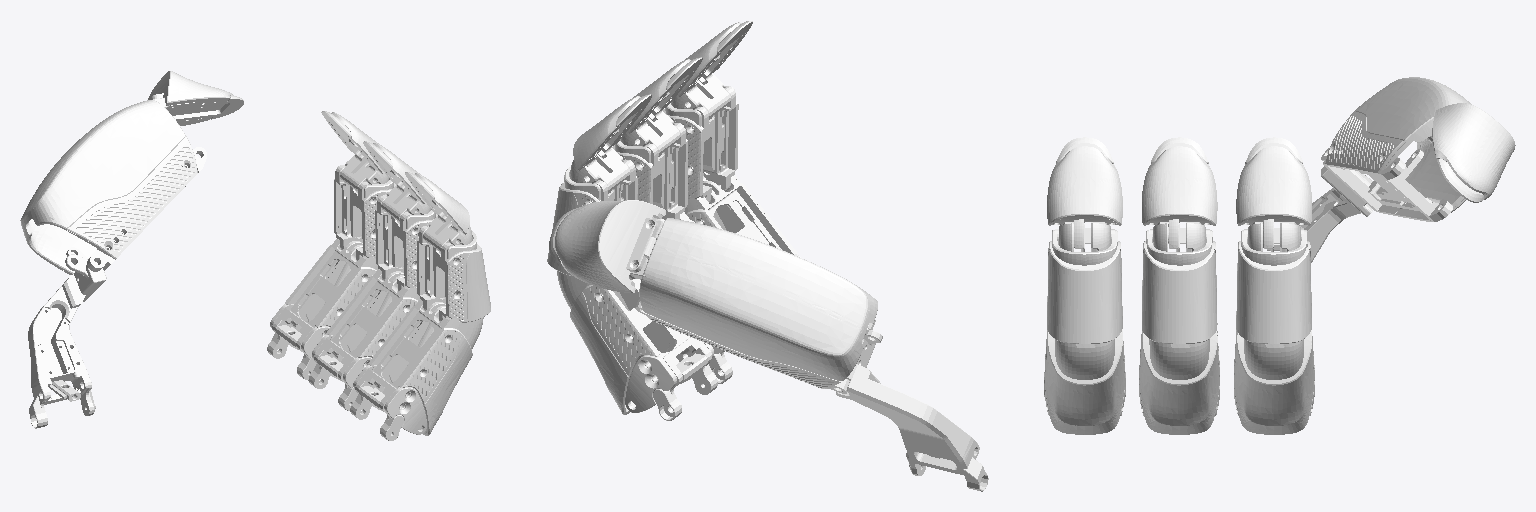
--- Facts derived from the render (not from the file) ---
Views: 3 orthographic renders of the robot side by side, from view 1: azimuth 30°, elevation 25°; view 2: azimuth 150°, elevation 25°; view 3: azimuth 270°, elevation 25°.
Robot: DH13_left_palm_URDF — 28 links, 27 joints (16 revolute, 11 fixed); root link left_palm; default pose: joints at zero except 12 at the middle of their limits (left_index_joint_1 = 0.795, left_index_joint_2 = 0.795, left_index_joint_3 = 0.795, left_middle_joint_1 = 0.795, left_middle_joint_2 = 0.795, left_middle_joint_3 = 0.795, +6 more).
Visible links, largest first — view 1: left_thumb_link_2, left_ring_link_1, left_thumb_link_1, left_index_link_1, left_middle_link_1, left_ring_link_2, left_index_link_2, left_middle_link_2, left_thumb_link_3, left_ring_link_3, left_middle_link_3, left_index_link_3; view 2: left_thumb_link_2, left_index_link_1, left_thumb_link_3, left_thumb_link_1, left_ring_link_2, left_middle_link_2, left_ring_link_1, left_index_link_3, left_middle_link_3, left_ring_link_3, left_index_link_2, left_middle_link_1; view 3: left_thumb_link_2, left_ring_link_2, left_index_link_2, left_middle_link_2, left_ring_link_1, left_middle_link_1, left_index_link_1, left_index_link_3, left_ring_link_3, left_middle_link_3, left_thumb_link_3, left_thumb_link_1.
Boxes of the visible links, bbox=[...] form: left_thumb_link_2: bbox=[20, 100, 206, 274]; left_ring_link_1: bbox=[350, 296, 483, 440]; left_thumb_link_1: bbox=[28, 254, 106, 428]; left_index_link_1: bbox=[267, 235, 377, 380]; left_middle_link_1: bbox=[309, 266, 419, 410]; left_ring_link_2: bbox=[417, 226, 490, 322]; left_index_link_2: bbox=[334, 165, 395, 260]; left_middle_link_2: bbox=[375, 195, 437, 291]; left_thumb_link_3: bbox=[148, 71, 243, 125]; left_ring_link_3: bbox=[405, 172, 472, 251]; left_middle_link_3: bbox=[363, 141, 430, 221]; left_index_link_3: bbox=[321, 111, 388, 190]; left_thumb_link_2: bbox=[635, 218, 877, 393]; left_index_link_1: bbox=[557, 271, 717, 420]; left_thumb_link_3: bbox=[549, 200, 665, 292]; left_thumb_link_1: bbox=[836, 328, 988, 491]; left_ring_link_2: bbox=[662, 86, 738, 203]; left_middle_link_2: bbox=[612, 123, 687, 219]; left_ring_link_1: bbox=[684, 172, 800, 257]; left_index_link_3: bbox=[570, 94, 651, 191]; left_middle_link_3: bbox=[620, 57, 702, 154]; left_ring_link_3: bbox=[671, 21, 752, 117]; left_index_link_2: bbox=[547, 160, 637, 275]; left_middle_link_1: bbox=[655, 212, 732, 383]; left_thumb_link_2: bbox=[1321, 77, 1471, 221]; left_ring_link_2: bbox=[1047, 229, 1122, 343]; left_index_link_2: bbox=[1236, 229, 1311, 343]; left_middle_link_2: bbox=[1142, 229, 1217, 343]; left_ring_link_1: bbox=[1044, 329, 1125, 434]; left_middle_link_1: bbox=[1139, 331, 1219, 434]; left_index_link_1: bbox=[1234, 329, 1314, 434]; left_index_link_3: bbox=[1236, 137, 1311, 251]; left_ring_link_3: bbox=[1047, 137, 1122, 251]; left_middle_link_3: bbox=[1142, 137, 1217, 251]; left_thumb_link_3: bbox=[1427, 103, 1515, 202]; left_thumb_link_1: bbox=[1299, 166, 1372, 262].
Bounding box of the posed robot: 0.1581 × 0.1568 × 0.1077 m (x, y, z).
Meshes: 28 distinct files referenced, 16 mesh visuals loaded (16 binary STL); not drawn: 12 (reference not matched to a file when rendering).

The robot description file, URDF, robot "DH13_left_palm_URDF":
<?xml version="1.0" encoding="utf-8"?>
<!-- This URDF was automatically created by SolidWorks to URDF Exporter! Originally created by Stephen Brawner ([email redacted])
     Commit Version: 1.6.0-4-g7f85cfe  Build Version: 1.6.7995.38578
     For more information, please see http://wiki.ros.org/sw_urdf_exporter -->
<robot
  name="DH13_left_palm_URDF">
  <link
    name="left_palm">
    <inertial>
      <origin
        xyz="0.0588502235606696 -0.00114084852085325 -0.00113099239657396"
        rpy="0 0 0" />
      <mass
        value="0.146152135576267" />
      <inertia
        ixx="0.000144470564295013"
        ixy="-4.49178044352789E-06"
        ixz="7.04381069950431E-06"
        iyy="0.000155282576988585"
        iyz="1.49622912136252E-06"
        izz="0.000277270654614189" />
    </inertial>
    <visual>
      <origin
        xyz="0 0 0"
        rpy="0 0 0" />
      <geometry>
        <mesh
          filename="package://DH13_left_palm_URDF/meshes/left_palm.STL" />
      </geometry>
      <material
        name="">
        <color
          rgba="1 1 1 1" />
      </material>
    </visual>
    <collision>
      <origin
        xyz="0 0 0"
        rpy="0 0 0" />
      <geometry>
        <mesh
          filename="package://DH13_left_palm_URDF/meshes/left_palm.STL" />
      </geometry>
    </collision>
  </link>
  <link
    name="left_index_link_0">
    <inertial>
      <origin
        xyz="0.000226891814931574 -4.61207391722063E-11 -2.19310208440324E-05"
        rpy="0 0 0" />
      <mass
        value="0.000219582291910095" />
      <inertia
        ixx="5.09933811246146E-09"
        ixy="2.46720773061582E-16"
        ixz="1.09180999964686E-12"
        iyy="8.35687601155067E-10"
        iyz="-9.24475309597392E-18"
        izz="5.36669725591883E-09" />
    </inertial>
    <visual>
      <origin
        xyz="0 0 0"
        rpy="0 0 0" />
      <geometry>
        <mesh
          filename="package://DH13_left_palm_URDF/meshes/left_index_link_0.STL" />
      </geometry>
      <material
        name="">
        <color
          rgba="1 1 1 1" />
      </material>
    </visual>
    <collision>
      <origin
        xyz="0 0 0"
        rpy="0 0 0" />
      <geometry>
        <mesh
          filename="package://DH13_left_palm_URDF/meshes/left_index_link_0.STL" />
      </geometry>
    </collision>
  </link>
  <joint
    name="left_index_joint_0"
    type="revolute">
    <origin
      xyz="0.122 0.031471 0.001716"
      rpy="0 0 0" />
    <parent
      link="left_palm" />
    <child
      link="left_index_link_0" />
    <axis
      xyz="0 0 1" />
    <limit
      lower="-0.35"
      upper="0.35"
      effort="1"
      velocity="10" />
  </joint>
  <link
    name="left_index_link_1">
    <inertial>
      <origin
        xyz="0.0117120932859076 -0.0108062180012325 -0.000152436518407663"
        rpy="0 0 0" />
      <mass
        value="0.00916442983480391" />
      <inertia
        ixx="7.31186055220236E-07"
        ixy="-1.61242768003415E-07"
        ixz="-6.77107611827971E-09"
        iyy="1.35547059429337E-06"
        iyz="-1.30267618298497E-09"
        izz="1.14009604716098E-06" />
    </inertial>
    <visual>
      <origin
        xyz="0 0 0"
        rpy="0 0 0" />
      <geometry>
        <mesh
          filename="package://DH13_left_palm_URDF/meshes/left_index_link_1.STL" />
      </geometry>
      <material
        name="">
        <color
          rgba="1 1 1 1" />
      </material>
    </visual>
    <collision>
      <origin
        xyz="0 0 0"
        rpy="0 0 0" />
      <geometry>
        <mesh
          filename="package://DH13_left_palm_URDF/meshes/left_index_link_1.STL" />
      </geometry>
    </collision>
  </link>
  <joint
    name="left_index_joint_1"
    type="revolute">
    <origin
      xyz="0 0 0"
      rpy="1.5708 0 0" />
    <parent
      link="left_index_link_0" />
    <child
      link="left_index_link_1" />
    <axis
      xyz="0 0 1" />
    <limit
      lower="0.02"
      upper="1.57"
      effort="1"
      velocity="10" />
  </joint>
  <link
    name="left_index_link_2">
    <inertial>
      <origin
        xyz="0.0130936304594965 -0.00697624908586129 -7.29594164489908E-05"
        rpy="0 0 0" />
      <mass
        value="0.00404582103455539" />
      <inertia
        ixx="3.30542792115497E-07"
        ixy="-2.6310407385494E-08"
        ixz="-6.21968318777699E-09"
        iyy="5.2065264486445E-07"
        iyz="1.13767819478486E-10"
        izz="3.72356982579455E-07" />
    </inertial>
    <visual>
      <origin
        xyz="0 0 0"
        rpy="0 0 0" />
      <geometry>
        <mesh
          filename="package://DH13_left_palm_URDF/meshes/left_index_link_2.STL" />
      </geometry>
      <material
        name="">
        <color
          rgba="1 1 1 1" />
      </material>
    </visual>
    <collision>
      <origin
        xyz="0 0 0"
        rpy="0 0 0" />
      <geometry>
        <mesh
          filename="package://DH13_left_palm_URDF/meshes/left_index_link_2.STL" />
      </geometry>
    </collision>
  </link>
  <joint
    name="left_index_joint_2"
    type="revolute">
    <origin
      xyz="0.04 0 0"
      rpy="0 0 0" />
    <parent
      link="left_index_link_1" />
    <child
      link="left_index_link_2" />
    <axis
      xyz="0 0 1" />
    <limit
      lower="0.02"
      upper="1.57"
      effort="1"
      velocity="10" />
  </joint>
  <link
    name="left_index_link_3">
    <inertial>
      <origin
        xyz="0.00688144407011264 -0.011246695160724 -7.81487321681318E-06"
        rpy="0 0 0" />
      <mass
        value="0.0032197523110225" />
      <inertia
        ixx="1.47314308494761E-07"
        ixy="6.72684016415257E-08"
        ixz="-1.38656033856576E-10"
        iyy="2.74943299459659E-07"
        iyz="6.55335921222193E-10"
        izz="2.28663863944677E-07" />
    </inertial>
    <visual>
      <origin
        xyz="0 0 0"
        rpy="0 0 0" />
      <geometry>
        <mesh
          filename="package://DH13_left_palm_URDF/meshes/left_index_link_3.STL" />
      </geometry>
      <material
        name="">
        <color
          rgba="1 1 1 1" />
      </material>
    </visual>
    <collision>
      <origin
        xyz="0 0 0"
        rpy="0 0 0" />
      <geometry>
        <mesh
          filename="package://DH13_left_palm_URDF/meshes/left_index_link_3.STL" />
      </geometry>
    </collision>
  </link>
  <joint
    name="left_index_joint_3"
    type="revolute">
    <origin
      xyz="0.03 0 0"
      rpy="0 0 0" />
    <parent
      link="left_index_link_2" />
    <child
      link="left_index_link_3" />
    <axis
      xyz="0 0 1" />
    <limit
      lower="0.02"
      upper="1.57"
      effort="1"
      velocity="10" />
  </joint>
  <link
    name="index_sensor_3">
    <inertial>
      <origin
        xyz="0.000109366165619171 0.00994013325827102 0.00443494228584046"
        rpy="0 0 0" />
      <mass
        value="0.00413441384414216" />
      <inertia
        ixx="2.22344907265705E-07"
        ixy="9.16883670992618E-10"
        ixz="8.87566990337599E-10"
        iyy="2.23735453484523E-07"
        iyz="2.46826890000707E-08"
        izz="3.54523352101374E-07" />
    </inertial>
    <visual>
      <origin
        xyz="0 0 0"
        rpy="0 0 0" />
      <geometry>
        <mesh
          filename="package://DH13_left_palm_URDF/meshes/index_sensor_3.STL" />
      </geometry>
      <material
        name="">
        <color
          rgba="1 1 1 1" />
      </material>
    </visual>
    <collision>
      <origin
        xyz="0 0 0"
        rpy="0 0 0" />
      <geometry>
        <mesh
          filename="package://DH13_left_palm_URDF/meshes/index_sensor_3.STL" />
      </geometry>
    </collision>
  </link>
  <joint
    name="index_sensor_3"
    type="fixed">
    <origin
      xyz="0.0023518 -0.00701 0"
      rpy="1.2903 -1.5708 -3.1416" />
    <parent
      link="left_index_link_3" />
    <child
      link="index_sensor_3" />
    <axis
      xyz="0 0 0" />
  </joint>
  <link
    name="index_sensor_2">
    <inertial>
      <origin
        xyz="3.0417341829618E-05 0.0109528250602373 0.000700664918908079"
        rpy="0 0 0" />
      <mass
        value="0.00146306416336324" />
      <inertia
        ixx="5.85353589123312E-08"
        ixy="2.96611304870968E-11"
        ixz="-5.95121500055348E-13"
        iyy="6.03565236078999E-08"
        iyz="-1.48257062080141E-11"
        izz="1.15994428476041E-07" />
    </inertial>
    <visual>
      <origin
        xyz="0 0 0"
        rpy="0 0 0" />
      <geometry>
        <mesh
          filename="package://DH13_left_palm_URDF/meshes/index_sensor_2.STL" />
      </geometry>
      <material
        name="">
        <color
          rgba="1 1 1 1" />
      </material>
    </visual>
    <collision>
      <origin
        xyz="0 0 0"
        rpy="0 0 0" />
      <geometry>
        <mesh
          filename="package://DH13_left_palm_URDF/meshes/index_sensor_2.STL" />
      </geometry>
    </collision>
  </link>
  <joint
    name="index_sensor_2"
    type="fixed">
    <origin
      xyz="0.00417 0.0025 0"
      rpy="1.5708 -1.5708 -3.1416" />
    <parent
      link="left_index_link_2" />
    <child
      link="index_sensor_2" />
    <axis
      xyz="0 0 0" />
  </joint>
  <link
    name="index_sensor_1">
    <inertial>
      <origin
        xyz="-5.64660350414747E-06 0.0140750206405262 0.000861641480571084"
        rpy="0 0 0" />
      <mass
        value="0.00202349083530204" />
      <inertia
        ixx="1.39860030187731E-07"
        ixy="1.33827467342363E-11"
        ixz="-1.25794063855495E-12"
        iyy="9.1584625427251E-08"
        iyz="-2.40330493712483E-10"
        izz="2.27693004336174E-07" />
    </inertial>
    <visual>
      <origin
        xyz="0 0 0"
        rpy="0 0 0" />
      <geometry>
        <mesh
          filename="package://DH13_left_palm_URDF/meshes/index_sensor_1.STL" />
      </geometry>
      <material
        name="">
        <color
          rgba="1 1 1 1" />
      </material>
    </visual>
    <collision>
      <origin
        xyz="0 0 0"
        rpy="0 0 0" />
      <geometry>
        <mesh
          filename="package://DH13_left_palm_URDF/meshes/index_sensor_1.STL" />
      </geometry>
    </collision>
  </link>
  <joint
    name="index_sensor_1"
    type="fixed">
    <origin
      xyz="0.0072631 0.0025 0"
      rpy="1.5708 -1.5708 -3.1416" />
    <parent
      link="left_index_link_1" />
    <child
      link="index_sensor_1" />
    <axis
      xyz="0 0 0" />
  </joint>
  <link
    name="left_middle_link_0">
    <inertial>
      <origin
        xyz="0.00022689181493158 -4.61207372523963E-11 -2.19310208440307E-05"
        rpy="0 0 0" />
      <mass
        value="0.000219582291910095" />
      <inertia
        ixx="5.09933811246146E-09"
        ixy="2.4672077336715E-16"
        ixz="1.09180999964668E-12"
        iyy="8.35687601155067E-10"
        iyz="-9.24475223162836E-18"
        izz="5.36669725591883E-09" />
    </inertial>
    <visual>
      <origin
        xyz="0 0 0"
        rpy="0 0 0" />
      <geometry>
        <mesh
          filename="package://DH13_left_palm_URDF/meshes/left_middle_link_0.STL" />
      </geometry>
      <material
        name="">
        <color
          rgba="1 1 1 1" />
      </material>
    </visual>
    <collision>
      <origin
        xyz="0 0 0"
        rpy="0 0 0" />
      <geometry>
        <mesh
          filename="package://DH13_left_palm_URDF/meshes/left_middle_link_0.STL" />
      </geometry>
    </collision>
  </link>
  <joint
    name="left_middle_joint_0"
    type="revolute">
    <origin
      xyz="0.122 -2.8679E-05 0.001716"
      rpy="0 0 0" />
    <parent
      link="left_palm" />
    <child
      link="left_middle_link_0" />
    <axis
      xyz="0 0 1" />
    <limit
      lower="-0.35"
      upper="0.35"
      effort="1"
      velocity="10" />
  </joint>
  <link
    name="left_middle_link_1">
    <inertial>
      <origin
        xyz="0.011712093285087 -0.0108062084139719 -0.000152431890648759"
        rpy="0 0 0" />
      <mass
        value="0.00916442055600428" />
      <inertia
        ixx="7.31185374609438E-07"
        ixy="-1.61242322840129E-07"
        ixz="-6.77067344374513E-09"
        iyy="1.35546955697144E-06"
        iyz="-1.30242497688911E-09"
        izz="1.14009507998684E-06" />
    </inertial>
    <visual>
      <origin
        xyz="0 0 0"
        rpy="0 0 0" />
      <geometry>
        <mesh
          filename="package://DH13_left_palm_URDF/meshes/left_middle_link_1.STL" />
      </geometry>
      <material
        name="">
        <color
          rgba="1 1 1 1" />
      </material>
    </visual>
    <collision>
      <origin
        xyz="0 0 0"
        rpy="0 0 0" />
      <geometry>
        <mesh
          filename="package://DH13_left_palm_URDF/meshes/left_middle_link_1.STL" />
      </geometry>
    </collision>
  </link>
  <joint
    name="left_middle_joint_1"
    type="revolute">
    <origin
      xyz="0 0 0"
      rpy="1.5708 0 0" />
    <parent
      link="left_middle_link_0" />
    <child
      link="left_middle_link_1" />
    <axis
      xyz="0 0 1" />
    <limit
      lower="0.02"
      upper="1.57"
      effort="1"
      velocity="10" />
  </joint>
  <link
    name="left_middle_link_2">
    <inertial>
      <origin
        xyz="0.013093647945391 -0.00697638160228441 -7.29598515065396E-05"
        rpy="0 0 0" />
      <mass
        value="0.00404582103455536" />
      <inertia
        ixx="3.30542791817964E-07"
        ixy="-2.63104072741151E-08"
        ixz="-6.21968264728176E-09"
        iyy="5.20652644860471E-07"
        iyz="1.13771039490364E-10"
        izz="3.72356982880959E-07" />
    </inertial>
    <visual>
      <origin
        xyz="0 0 0"
        rpy="0 0 0" />
      <geometry>
        <mesh
          filename="package://DH13_left_palm_URDF/meshes/left_middle_link_2.STL" />
      </geometry>
      <material
        name="">
        <color
          rgba="1 1 1 1" />
      </material>
    </visual>
    <collision>
      <origin
        xyz="0 0 0"
        rpy="0 0 0" />
      <geometry>
        <mesh
          filename="package://DH13_left_palm_URDF/meshes/left_middle_link_2.STL" />
      </geometry>
    </collision>
  </link>
  <joint
    name="left_middle_joint_2"
    type="revolute">
    <origin
      xyz="0.04 0 0"
      rpy="0 0 0" />
    <parent
      link="left_middle_link_1" />
    <child
      link="left_middle_link_2" />
    <axis
      xyz="0 0 1" />
    <limit
      lower="0.02"
      upper="1.57"
      effort="1"
      velocity="10" />
  </joint>
  <link
    name="left_middle_link_3">
    <inertial>
      <origin
        xyz="0.0068814440721999 -0.0112466951615841 -7.81487399312486E-06"
        rpy="0 0 0" />
      <mass
        value="0.00321975231158931" />
      <inertia
        ixx="1.47314308507358E-07"
        ixy="6.72684016475529E-08"
        ixz="-1.3865601095479E-10"
        iyy="2.74943299516492E-07"
        iyz="6.55335918121248E-10"
        izz="2.28663863990896E-07" />
    </inertial>
    <visual>
      <origin
        xyz="0 0 0"
        rpy="0 0 0" />
      <geometry>
        <mesh
          filename="package://DH13_left_palm_URDF/meshes/left_middle_link_3.STL" />
      </geometry>
      <material
        name="">
        <color
          rgba="1 1 1 1" />
      </material>
    </visual>
    <collision>
      <origin
        xyz="0 0 0"
        rpy="0 0 0" />
      <geometry>
        <mesh
          filename="package://DH13_left_palm_URDF/meshes/left_middle_link_3.STL" />
      </geometry>
    </collision>
  </link>
  <joint
    name="left_middle_joint_3"
    type="revolute">
    <origin
      xyz="0.03 0 0"
      rpy="0 0 0" />
    <parent
      link="left_middle_link_2" />
    <child
      link="left_middle_link_3" />
    <axis
      xyz="0 0 1" />
    <limit
      lower="0.02"
      upper="1.57"
      effort="1"
      velocity="10" />
  </joint>
  <link
    name="middle_sensor_3">
    <inertial>
      <origin
        xyz="0.000109368267918879 0.00994013414266086 0.00443494217218843"
        rpy="0 0 0" />
      <mass
        value="0.00413441242639213" />
      <inertia
        ixx="2.22344889983909E-07"
        ixy="9.16894802183812E-10"
        ixz="8.87552555269026E-10"
        iyy="2.23735394765955E-07"
        iyz="2.46826852807967E-08"
        izz="3.5452328380815E-07" />
    </inertial>
    <visual>
      <origin
        xyz="0 0 0"
        rpy="0 0 0" />
      <geometry>
        <mesh
          filename="package://DH13_left_palm_URDF/meshes/middle_sensor_3.STL" />
      </geometry>
      <material
        name="">
        <color
          rgba="1 1 1 1" />
      </material>
    </visual>
    <collision>
      <origin
        xyz="0 0 0"
        rpy="0 0 0" />
      <geometry>
        <mesh
          filename="package://DH13_left_palm_URDF/meshes/middle_sensor_3.STL" />
      </geometry>
    </collision>
  </link>
  <joint
    name="middle_sensor_3"
    type="fixed">
    <origin
      xyz="0.0023518 -0.00701 0"
      rpy="1.2903 -1.5708 -3.1416" />
    <parent
      link="left_middle_link_3" />
    <child
      link="middle_sensor_3" />
    <axis
      xyz="0 0 0" />
  </joint>
  <link
    name="middle_sensor_2">
    <inertial>
      <origin
        xyz="3.04173418296366E-05 0.0109528250602373 0.000700664918908093"
        rpy="0 0 0" />
      <mass
        value="0.00146306416336324" />
      <inertia
        ixx="5.85353589123311E-08"
        ixy="2.96611304869571E-11"
        ixz="-5.95121500063072E-13"
        iyy="6.03565236078997E-08"
        iyz="-1.4825706207977E-11"
        izz="1.15994428476041E-07" />
    </inertial>
    <visual>
      <origin
        xyz="0 0 0"
        rpy="0 0 0" />
      <geometry>
        <mesh
          filename="package://DH13_left_palm_URDF/meshes/middle_sensor_2.STL" />
      </geometry>
      <material
        name="">
        <color
          rgba="1 1 1 1" />
      </material>
    </visual>
    <collision>
      <origin
        xyz="0 0 0"
        rpy="0 0 0" />
      <geometry>
        <mesh
          filename="package://DH13_left_palm_URDF/meshes/middle_sensor_2.STL" />
      </geometry>
    </collision>
  </link>
  <joint
    name="middle_sensor_2"
    type="fixed">
    <origin
      xyz="0.00417 0.0024999 0"
      rpy="1.5708 -1.5708 -3.1416" />
    <parent
      link="left_middle_link_2" />
    <child
      link="middle_sensor_2" />
    <axis
      xyz="0 0 0" />
  </joint>
  <link
    name="middle_sensor_1">
    <inertial>
      <origin
        xyz="-5.64660350578657E-06 0.0140750206405305 0.000861641480573718"
        rpy="0 0 0" />
      <mass
        value="0.00202349083530136" />
      <inertia
        ixx="1.39860030187639E-07"
        ixy="1.33827466870879E-11"
        ixz="-1.25794065471087E-12"
        iyy="9.15846254272E-08"
        iyz="-2.40330493684158E-10"
        izz="2.27693004336049E-07" />
    </inertial>
    <visual>
      <origin
        xyz="0 0 0"
        rpy="0 0 0" />
      <geometry>
        <mesh
          filename="package://DH13_left_palm_URDF/meshes/middle_sensor_1.STL" />
      </geometry>
      <material
        name="">
        <color
          rgba="1 1 1 1" />
      </material>
    </visual>
    <collision>
      <origin
        xyz="0 0 0"
        rpy="0 0 0" />
      <geometry>
        <mesh
          filename="package://DH13_left_palm_URDF/meshes/middle_sensor_1.STL" />
      </geometry>
    </collision>
  </link>
  <joint
    name="middle_sensor_1"
    type="fixed">
    <origin
      xyz="0.0072631 0.0025 0"
      rpy="1.5708 -1.5708 -3.1416" />
    <parent
      link="left_middle_link_1" />
    <child
      link="middle_sensor_1" />
    <axis
      xyz="0 0 0" />
  </joint>
  <link
    name="left_ring_link_0">
    <inertial>
      <origin
        xyz="0.000226891814931587 -4.61207461111002E-11 -2.19310208440298E-05"
        rpy="0 0 0" />
      <mass
        value="0.000219582291910096" />
      <inertia
        ixx="5.09933811246146E-09"
        ixy="2.46720773774389E-16"
        ixz="1.0918099996465E-12"
        iyy="8.35687601155069E-10"
        iyz="-9.24475237433447E-18"
        izz="5.36669725591883E-09" />
    </inertial>
    <visual>
      <origin
        xyz="0 0 0"
        rpy="0 0 0" />
      <geometry>
        <mesh
          filename="package://DH13_left_palm_URDF/meshes/left_ring_link_0.STL" />
      </geometry>
      <material
        name="">
        <color
          rgba="1 1 1 1" />
      </material>
    </visual>
    <collision>
      <origin
        xyz="0 0 0"
        rpy="0 0 0" />
      <geometry>
        <mesh
          filename="package://DH13_left_palm_URDF/meshes/left_ring_link_0.STL" />
      </geometry>
    </collision>
  </link>
  <joint
    name="left_ring_joint_0"
    type="revolute">
    <origin
      xyz="0.122 -0.031529 0.001716"
      rpy="0 0 0" />
    <parent
      link="left_palm" />
    <child
      link="left_ring_link_0" />
    <axis
      xyz="0 0 1" />
    <limit
      lower="-0.35"
      upper="0.35"
      effort="1"
      velocity="10" />
  </joint>
  <link
    name="left_ring_link_1">
    <inertial>
      <origin
        xyz="0.0117120931129161 -0.0108062168842394 -0.00015243726953796"
        rpy="0 0 0" />
      <mass
        value="0.00916442881121788" />
      <inertia
        ixx="7.31185967674512E-07"
        ixy="-1.61242724250419E-07"
        ixz="-6.7711235104611E-09"
        iyy="1.35547049935923E-06"
        iyz="-1.30271966469782E-09"
        izz="1.14009595901643E-06" />
    </inertial>
    <visual>
      <origin
        xyz="0 0 0"
        rpy="0 0 0" />
      <geometry>
        <mesh
          filename="package://DH13_left_palm_URDF/meshes/left_ring_link_1.STL" />
      </geometry>
      <material
        name="">
        <color
          rgba="1 1 1 1" />
      </material>
    </visual>
    <collision>
      <origin
        xyz="0 0 0"
        rpy="0 0 0" />
      <geometry>
        <mesh
          filename="package://DH13_left_palm_URDF/meshes/left_ring_link_1.STL" />
      </geometry>
    </collision>
  </link>
  <joint
    name="left_ring_joint_1"
    type="revolute">
    <origin
      xyz="0 0 0"
      rpy="1.5708 0 0" />
    <parent
      link="left_ring_link_0" />
    <child
      link="left_ring_link_1" />
    <axis
      xyz="0 0 1" />
    <limit
      lower="0.02"
      upper="1.57"
      effort="1"
      velocity="10" />
  </joint>
  <link
    name="left_ring_link_2">
    <inertial>
      <origin
        xyz="0.0130936304594967 -0.00697624908586119 -7.29594164491296E-05"
        rpy="0 0 0" />
      <mass
        value="0.0040458210345554" />
      <inertia
        ixx="3.30542792115495E-07"
        ixy="-2.63104073854948E-08"
        ixz="-6.21968318777943E-09"
        iyy="5.20652644864448E-07"
        iyz="1.13767819478579E-10"
        izz="3.72356982579454E-07" />
    </inertial>
    <visual>
      <origin
        xyz="0 0 0"
        rpy="0 0 0" />
      <geometry>
        <mesh
          filename="package://DH13_left_palm_URDF/meshes/left_ring_link_2.STL" />
      </geometry>
      <material
        name="">
        <color
          rgba="1 1 1 1" />
      </material>
    </visual>
    <collision>
      <origin
        xyz="0 0 0"
        rpy="0 0 0" />
      <geometry>
        <mesh
          filename="package://DH13_left_palm_URDF/meshes/left_ring_link_2.STL" />
      </geometry>
    </collision>
  </link>
  <joint
    name="left_ring_joint_2"
    type="revolute">
    <origin
      xyz="0.04 0 0"
      rpy="0 0 0" />
    <parent
      link="left_ring_link_1" />
    <child
      link="left_ring_link_2" />
    <axis
      xyz="0 0 1" />
    <limit
      lower="0.02"
      upper="1.57"
      effort="1"
      velocity="10" />
  </joint>
  <link
    name="left_ring_link_3">
    <inertial>
      <origin
        xyz="0.00688144407219976 -0.0112466951615841 -7.81487399305336E-06"
        rpy="0 0 0" />
      <mass
        value="0.0032197523115893" />
      <inertia
        ixx="1.47314308507359E-07"
        ixy="6.72684016475527E-08"
        ixz="-1.38656010953815E-10"
        iyy="2.74943299516489E-07"
        iyz="6.55335918120725E-10"
        izz="2.28663863990892E-07" />
    </inertial>
    <visual>
      <origin
        xyz="0 0 0"
        rpy="0 0 0" />
      <geometry>
        <mesh
          filename="package://DH13_left_palm_URDF/meshes/left_ring_link_3.STL" />
      </geometry>
      <material
        name="">
        <color
          rgba="1 1 1 1" />
      </material>
    </visual>
    <collision>
      <origin
        xyz="0 0 0"
        rpy="0 0 0" />
      <geometry>
        <mesh
          filename="package://DH13_left_palm_URDF/meshes/left_ring_link_3.STL" />
      </geometry>
    </collision>
  </link>
  <joint
    name="left_ring_joint_3"
    type="revolute">
    <origin
      xyz="0.03 0 0"
      rpy="0 0 0" />
    <parent
      link="left_ring_link_2" />
    <child
      link="left_ring_link_3" />
    <axis
      xyz="0 0 1" />
    <limit
      lower="0.02"
      upper="1.57"
      effort="1"
      velocity="10" />
  </joint>
  <link
    name="ring_sensor_3">
    <inertial>
      <origin
        xyz="0.000109365818399293 0.00994013931324213 0.00443494297483954"
        rpy="0 0 0" />
      <mass
        value="0.00413441534569083" />
      <inertia
        ixx="2.2234500584855E-07"
        ixy="9.16967308234039E-10"
        ixz="8.87558523716806E-10"
        iyy="2.23735511047182E-07"
        iyz="2.46826819044648E-08"
        izz="3.54523513668864E-07" />
    </inertial>
    <visual>
      <origin
        xyz="0 0 0"
        rpy="0 0 0" />
      <geometry>
        <mesh
          filename="package://DH13_left_palm_URDF/meshes/ring_sensor_3.STL" />
      </geometry>
      <material
        name="">
        <color
          rgba="1 1 1 1" />
      </material>
    </visual>
    <collision>
      <origin
        xyz="0 0 0"
        rpy="0 0 0" />
      <geometry>
        <mesh
          filename="package://DH13_left_palm_URDF/meshes/ring_sensor_3.STL" />
      </geometry>
    </collision>
  </link>
  <joint
    name="ring_sensor_3"
    type="fixed">
    <origin
      xyz="0.0023518 -0.00701 0"
      rpy="1.2903 -1.5708 -3.1416" />
    <parent
      link="left_ring_link_3" />
    <child
      link="ring_sensor_3" />
    <axis
      xyz="0 0 0" />
  </joint>
  <link
    name="ring_sensor_2">
    <inertial>
      <origin
        xyz="3.04173418296944E-05 0.0109528250602374 0.000700664918908055"
        rpy="0 0 0" />
      <mass
        value="0.00146306416336322" />
      <inertia
        ixx="5.85353589123303E-08"
        ixy="2.96611304881416E-11"
        ixz="-5.95121500183171E-13"
        iyy="6.03565236078988E-08"
        iyz="-1.48257062081743E-11"
        izz="1.15994428476039E-07" />
    </inertial>
    <visual>
      <origin
        xyz="0 0 0"
        rpy="0 0 0" />
      <geometry>
        <mesh
          filename="package://DH13_left_palm_URDF/meshes/ring_sensor_2.STL" />
      </geometry>
      <material
        name="">
        <color
          rgba="1 1 1 1" />
      </material>
    </visual>
    <collision>
      <origin
        xyz="0 0 0"
        rpy="0 0 0" />
      <geometry>
        <mesh
          filename="package://DH13_left_palm_URDF/meshes/ring_sensor_2.STL" />
      </geometry>
    </collision>
  </link>
  <joint
    name="ring_sensor_2"
    type="fixed">
    <origin
      xyz="0.00417 0.0025 0"
      rpy="1.5708 -1.5708 -3.1416" />
    <parent
      link="left_ring_link_2" />
    <child
      link="ring_sensor_2" />
    <axis
      xyz="0 0 0" />
  </joint>
  <link
    name="ring_sensor_1">
    <inertial>
      <origin
        xyz="-5.6466035058475E-06 0.0140750206405305 0.00086164148057374"
        rpy="0 0 0" />
      <mass
        value="0.00202349083530136" />
      <inertia
        ixx="1.39860030187637E-07"
        ixy="1.33827466882432E-11"
        ixz="-1.25794065511851E-12"
        iyy="9.15846254271989E-08"
        iyz="-2.40330493684483E-10"
        izz="2.27693004336046E-07" />
    </inertial>
    <visual>
      <origin
        xyz="0 0 0"
        rpy="0 0 0" />
      <geometry>
        <mesh
          filename="package://DH13_left_palm_URDF/meshes/ring_sensor_1.STL" />
      </geometry>
      <material
        name="">
        <color
          rgba="1 1 1 1" />
      </material>
    </visual>
    <collision>
      <origin
        xyz="0 0 0"
        rpy="0 0 0" />
      <geometry>
        <mesh
          filename="package://DH13_left_palm_URDF/meshes/ring_sensor_1.STL" />
      </geometry>
    </collision>
  </link>
  <joint
    name="ring_sensor_1"
    type="fixed">
    <origin
      xyz="0.0072631 0.0025 0"
      rpy="1.5708 -1.5708 -3.1416" />
    <parent
      link="left_ring_link_1" />
    <child
      link="ring_sensor_1" />
    <axis
      xyz="0 0 0" />
  </joint>
  <link
    name="left_thumb_link_0">
    <inertial>
      <origin
        xyz="0.00022689181493158 4.61207391722063E-11 2.19310208440342E-05"
        rpy="0 0 0" />
      <mass
        value="0.000219582291910095" />
      <inertia
        ixx="5.09933811246146E-09"
        ixy="-2.46720770738547E-16"
        ixz="-1.09180999964651E-12"
        iyy="8.35687601155066E-10"
        iyz="-9.24475291142139E-18"
        izz="5.36669725591883E-09" />
    </inertial>
    <visual>
      <origin
        xyz="0 0 0"
        rpy="0 0 0" />
      <geometry>
        <mesh
          filename="package://DH13_left_palm_URDF/meshes/left_thumb_link_0.STL" />
      </geometry>
      <material
        name="">
        <color
          rgba="1 1 1 1" />
      </material>
    </visual>
    <collision>
      <origin
        xyz="0 0 0"
        rpy="0 0 0" />
      <geometry>
        <mesh
          filename="package://DH13_left_palm_URDF/meshes/left_thumb_link_0.STL" />
      </geometry>
    </collision>
  </link>
  <joint
    name="left_thumb_joint_0"
    type="revolute">
    <origin
      xyz="0.026 0.036471 -0.00028402"
      rpy="0 0 1.5708" />
    <parent
      link="left_palm" />
    <child
      link="left_thumb_link_0" />
    <axis
      xyz="0 0 1" />
    <limit
      lower="-0.35"
      upper="0.35"
      effort="1"
      velocity="10" />
  </joint>
  <link
    name="left_thumb_link_1">
    <inertial>
      <origin
        xyz="0.0204656655599568 -2.09240757970078E-05 0.00676379871256097"
        rpy="0 0 0" />
      <mass
        value="0.00513633275560092" />
      <inertia
        ixx="6.05367966291244E-07"
        ixy="-2.25532129298427E-07"
        ixz="-5.21129476582278E-07"
        iyy="1.57488568485946E-06"
        iyz="-1.4040074294235E-07"
        izz="1.20413428835107E-06" />
    </inertial>
    <visual>
      <origin
        xyz="0 0 0"
        rpy="0 0 0" />
      <geometry>
        <mesh
          filename="package://DH13_left_palm_URDF/meshes/left_thumb_link_1.STL" />
      </geometry>
      <material
        name="">
        <color
          rgba="1 1 1 1" />
      </material>
    </visual>
    <collision>
      <origin
        xyz="0 0 0"
        rpy="0 0 0" />
      <geometry>
        <mesh
          filename="package://DH13_left_palm_URDF/meshes/left_thumb_link_1.STL" />
      </geometry>
    </collision>
  </link>
  <joint
    name="left_thumb_joint_1"
    type="revolute">
    <origin
      xyz="0 0 0"
      rpy="1.5708 0 0" />
    <parent
      link="left_thumb_link_0" />
    <child
      link="left_thumb_link_1" />
    <axis
      xyz="0 0 1" />
    <limit
      lower="0.02"
      upper="1.57"
      effort="1"
      velocity="10" />
  </joint>
  <link
    name="left_thumb_link_2">
    <inertial>
      <origin
        xyz="0.0282216248449452 -0.0230214712581124 -0.000281974742435103"
        rpy="0 0 0" />
      <mass
        value="0.0127677927950872" />
      <inertia
        ixx="2.30238241075929E-06"
        ixy="6.55438362132265E-07"
        ixz="-1.85626928922424E-08"
        iyy="5.46069126358234E-06"
        iyz="6.27427333254963E-09"
        izz="5.26989715897648E-06" />
    </inertial>
    <visual>
      <origin
        xyz="0 0 0"
        rpy="0 0 0" />
      <geometry>
        <mesh
          filename="package://DH13_left_palm_URDF/meshes/left_thumb_link_2.STL" />
      </geometry>
      <material
        name="">
        <color
          rgba="1 1 1 1" />
      </material>
    </visual>
    <collision>
      <origin
        xyz="0 0 0"
        rpy="0 0 0" />
      <geometry>
        <mesh
          filename="package://DH13_left_palm_URDF/meshes/left_thumb_link_2.STL" />
      </geometry>
    </collision>
  </link>
  <joint
    name="left_thumb_joint_2"
    type="revolute">
    <origin
      xyz="0.039999 0.009 0.0215"
      rpy="1.5708 -0.2618 0" />
    <parent
      link="left_thumb_link_1" />
    <child
      link="left_thumb_link_2" />
    <axis
      xyz="0 0 1" />
    <limit
      lower="0.02"
      upper="1.57"
      effort="1"
      velocity="10" />
  </joint>
  <link
    name="left_thumb_link_3">
    <inertial>
      <origin
        xyz="0.00563982656733913 -0.0174496388186306 -9.25504867044669E-05"
        rpy="0 0 0" />
      <mass
        value="0.00845953981165053" />
      <inertia
        ixx="7.46585177628196E-07"
        ixy="3.11536593628309E-07"
        ixz="-8.65029418408807E-09"
        iyy="8.8247592862905E-07"
        iyz="6.22278362402008E-09"
        izz="8.38696979069699E-07" />
    </inertial>
    <visual>
      <origin
        xyz="0 0 0"
        rpy="0 0 0" />
      <geometry>
        <mesh
          filename="package://DH13_left_palm_URDF/meshes/left_thumb_link_3.STL" />
      </geometry>
      <material
        name="">
        <color
          rgba="1 1 1 1" />
      </material>
    </visual>
    <collision>
      <origin
        xyz="0 0 0"
        rpy="0 0 0" />
      <geometry>
        <mesh
          filename="package://DH13_left_palm_URDF/meshes/left_thumb_link_3.STL" />
      </geometry>
    </collision>
  </link>
  <joint
    name="left_thumb_joint_3"
    type="revolute">
    <origin
      xyz="0.063268 -0.016953 0"
      rpy="0 0 0" />
    <parent
      link="left_thumb_link_2" />
    <child
      link="left_thumb_link_3" />
    <axis
      xyz="0 0 1" />
    <limit
      lower="0.02"
      upper="1.57"
      effort="1"
      velocity="10" />
  </joint>
  <link
    name="thumb_sensor_2">
    <inertial>
      <origin
        xyz="7.39988286055024E-08 0.0126852233129411 0.00466171537272762"
        rpy="0 0 0" />
      <mass
        value="0.00642511013192528" />
      <inertia
        ixx="5.39878705827843E-07"
        ixy="1.32589164054274E-11"
        ixz="-7.12520008980065E-13"
        iyy="4.31069607843438E-07"
        iyz="6.04504080447049E-08"
        izz="8.25869660024125E-07" />
    </inertial>
    <visual>
      <origin
        xyz="0 0 0"
        rpy="0 0 0" />
      <geometry>
        <mesh
          filename="package://DH13_left_palm_URDF/meshes/thumb_sensor_2.STL" />
      </geometry>
      <material
        name="">
        <color
          rgba="1 1 1 1" />
      </material>
    </visual>
    <collision>
      <origin
        xyz="0 0 0"
        rpy="0 0 0" />
      <geometry>
        <mesh
          filename="package://DH13_left_palm_URDF/meshes/thumb_sensor_2.STL" />
      </geometry>
    </collision>
  </link>
  <joint
    name="thumb_sensor_2"
    type="fixed">
    <origin
      xyz="0.0012655 -0.0081685 0"
      rpy="0.98978 -1.5708 -3.1416" />
    <parent
      link="left_thumb_link_3" />
    <child
      link="thumb_sensor_2" />
    <axis
      xyz="0 0 0" />
  </joint>
  <link
    name="thumb_sensor_1">
    <inertial>
      <origin
        xyz="2.23383315113741E-07 0.0263867211288406 0.0015645422105711"
        rpy="0 0 0" />
      <mass
        value="0.00353856726222837" />
      <inertia
        ixx="7.21430647515671E-07"
        ixy="-2.45764295539378E-11"
        ixz="6.5289918449477E-13"
        iyy="1.45872913178251E-07"
        iyz="-8.67218886820484E-10"
        izz="8.60683270060481E-07" />
    </inertial>
    <visual>
      <origin
        xyz="0 0 0"
        rpy="0 0 0" />
      <geometry>
        <mesh
          filename="package://DH13_left_palm_URDF/meshes/thumb_sensor_1.STL" />
      </geometry>
      <material
        name="">
        <color
          rgba="1 1 1 1" />
      </material>
    </visual>
    <collision>
      <origin
        xyz="0 0 0"
        rpy="0 0 0" />
      <geometry>
        <mesh
          filename="package://DH13_left_palm_URDF/meshes/thumb_sensor_1.STL" />
      </geometry>
    </collision>
  </link>
  <joint
    name="thumb_sensor_1"
    type="fixed">
    <origin
      xyz="0.0077035 0.0010417 0"
      rpy="1.309 -1.5708 -3.1416" />
    <parent
      link="left_thumb_link_2" />
    <child
      link="thumb_sensor_1" />
    <axis
      xyz="0 0 0" />
  </joint>
</robot>
